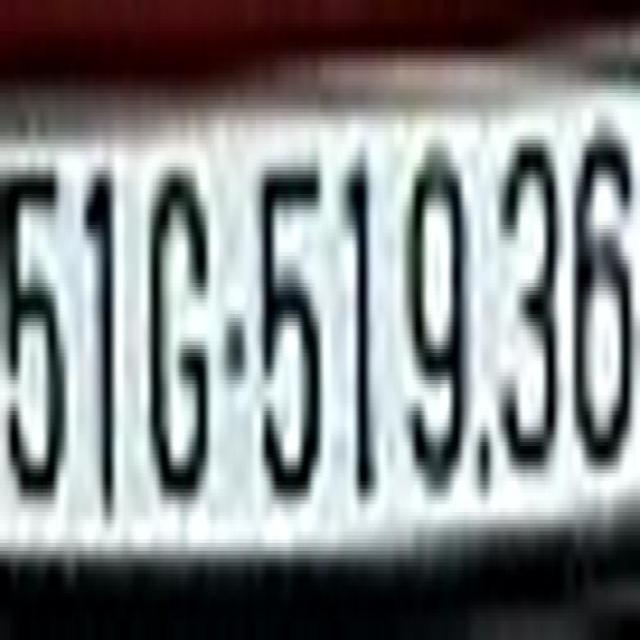1: (333, 97, 390, 539), (77, 120, 126, 528)
3: (496, 78, 558, 508)
5: (256, 112, 324, 524), (2, 120, 69, 516)
6: (571, 89, 634, 497)
9: (401, 101, 465, 512)
G: (145, 120, 211, 516)
